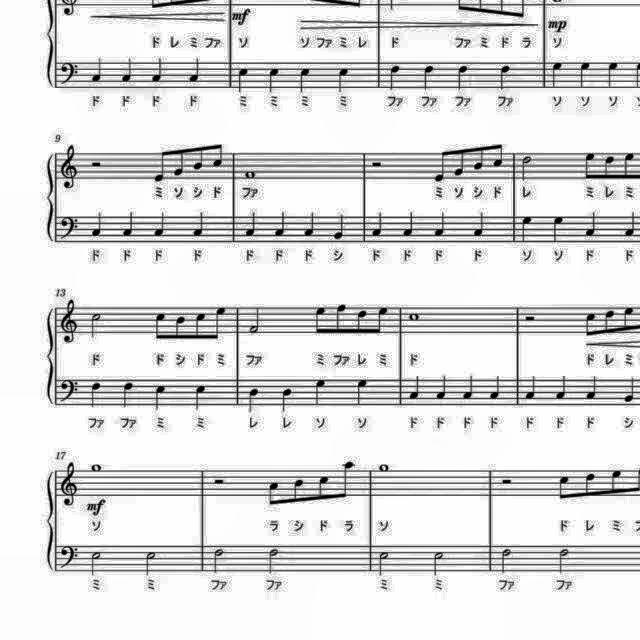Bass-clef: (58, 374, 82, 406), (58, 58, 82, 88), (58, 541, 82, 571), (58, 214, 82, 243)
Eighth-note: (339, 458, 359, 502), (148, 144, 168, 184), (433, 146, 451, 184), (152, 307, 170, 343), (265, 478, 285, 510), (212, 304, 228, 342), (374, 303, 391, 337), (621, 150, 639, 182), (334, 300, 350, 336), (582, 468, 600, 500), (314, 472, 332, 504), (555, 472, 573, 504), (450, 142, 466, 178), (171, 144, 187, 180), (312, 302, 328, 338), (582, 149, 598, 183), (192, 309, 208, 343), (288, 475, 306, 505), (608, 466, 624, 498), (470, 142, 486, 174), (174, 314, 190, 346), (490, 140, 506, 172), (210, 140, 226, 172), (622, 304, 638, 334), (584, 309, 600, 339), (353, 308, 369, 337), (600, 154, 616, 182), (190, 142, 204, 174), (602, 306, 616, 336)
Full-note: (406, 310, 424, 324), (88, 461, 106, 475), (242, 168, 258, 182), (376, 461, 392, 474)
Half-note: (140, 546, 160, 578), (430, 547, 450, 577), (265, 544, 283, 576), (518, 152, 536, 184), (209, 544, 227, 576), (497, 544, 515, 576), (245, 303, 262, 335), (376, 548, 394, 578), (556, 544, 572, 576), (90, 308, 106, 340), (88, 548, 106, 576)
Half-rest: (88, 156, 106, 172), (369, 156, 387, 172), (210, 476, 228, 488), (498, 476, 514, 488), (522, 312, 538, 324)
Quarter-note: (421, 62, 439, 94), (518, 214, 536, 246), (88, 378, 106, 410), (495, 60, 513, 92), (353, 375, 371, 407), (622, 374, 640, 406), (118, 378, 136, 410), (575, 59, 593, 91), (312, 377, 330, 408), (549, 59, 567, 90), (191, 381, 209, 412), (151, 382, 169, 413), (454, 62, 472, 92), (148, 56, 166, 86), (335, 66, 353, 96), (185, 56, 203, 86), (265, 63, 283, 93), (604, 59, 620, 91), (550, 212, 566, 244), (386, 60, 402, 92), (120, 54, 136, 86), (332, 210, 348, 242), (90, 54, 106, 86), (623, 211, 640, 241), (245, 384, 262, 414), (434, 209, 451, 239), (190, 211, 207, 241), (278, 386, 296, 414), (460, 372, 476, 403), (153, 209, 169, 239), (236, 63, 252, 93), (472, 209, 488, 239), (584, 209, 600, 239), (298, 66, 314, 96), (402, 209, 418, 239), (272, 209, 288, 239), (122, 209, 138, 239), (243, 209, 259, 239), (487, 372, 503, 402), (408, 372, 424, 402), (554, 372, 570, 402), (90, 211, 106, 241), (433, 372, 449, 402), (584, 373, 600, 402), (370, 210, 386, 238), (523, 373, 539, 401), (302, 210, 318, 238), (632, 59, 640, 92), (639, 211, 640, 241)
Treble-clef: (58, 142, 84, 190), (58, 299, 82, 349), (58, 461, 82, 511)
